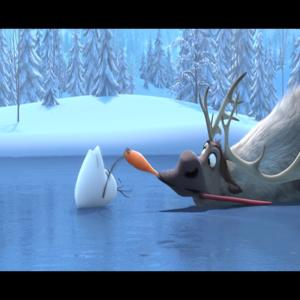carrot: (131, 142, 161, 185)
olaf: (75, 145, 128, 221)
sven: (165, 88, 287, 205)
